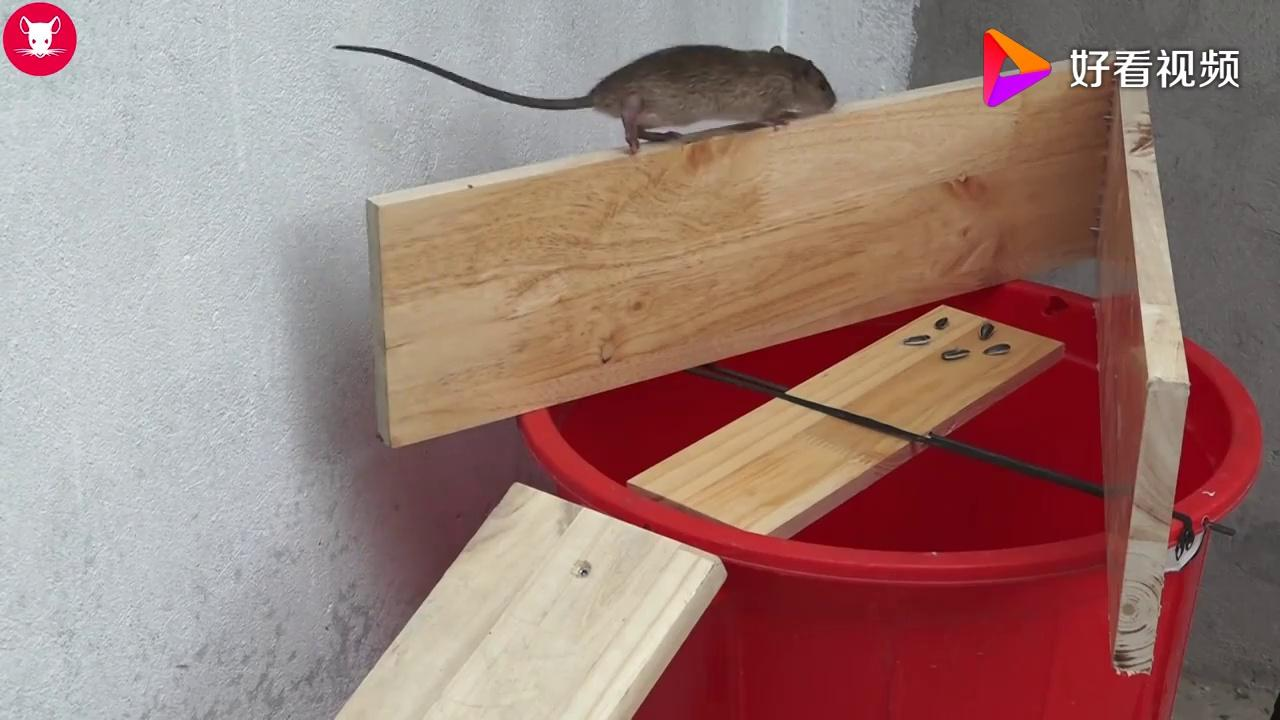rat: (455, 10, 846, 162)
